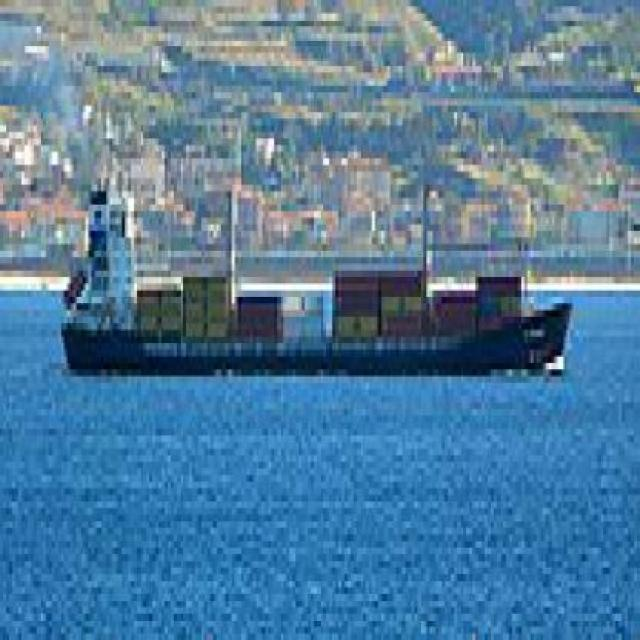container: (53, 173, 577, 391)
